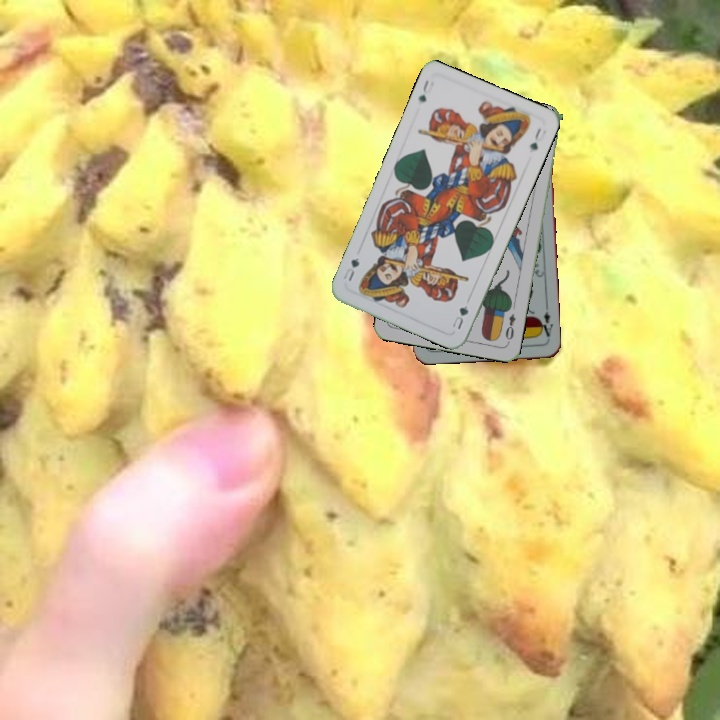EA: (535, 302, 555, 339)
EO: (501, 310, 518, 346)
GU: (448, 301, 471, 332), (414, 75, 436, 105)
